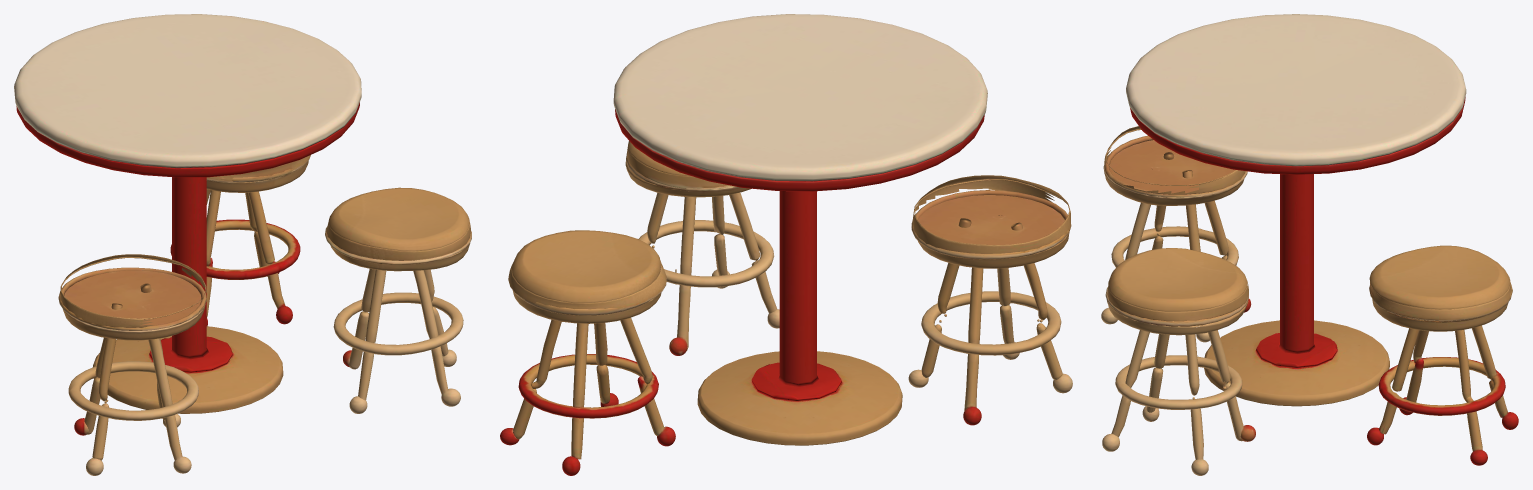
Rendered from toonstudio_diner_table.glb.
3 views of the same model, side by side, from view 1: azimuth 30°, elevation 25°; view 2: azimuth 150°, elevation 25°; view 3: azimuth 270°, elevation 25° (orthographic). The views are drawn at different scales.
Parts seen in each view (by area): view 1: e1e506c6_3f3e_4519_ada7_504db236cc64; view 2: e1e506c6_3f3e_4519_ada7_504db236cc64; view 3: e1e506c6_3f3e_4519_ada7_504db236cc64.
Part boxes in pixels (x1,y1,x2,y2): e1e506c6_3f3e_4519_ada7_504db236cc64: (14,14,471,475); e1e506c6_3f3e_4519_ada7_504db236cc64: (500,14,1072,475); e1e506c6_3f3e_4519_ada7_504db236cc64: (1101,14,1518,475).
Size of the model in its own units: 1.5 by 1.1 by 1.39.
1 material, 1 textured.
